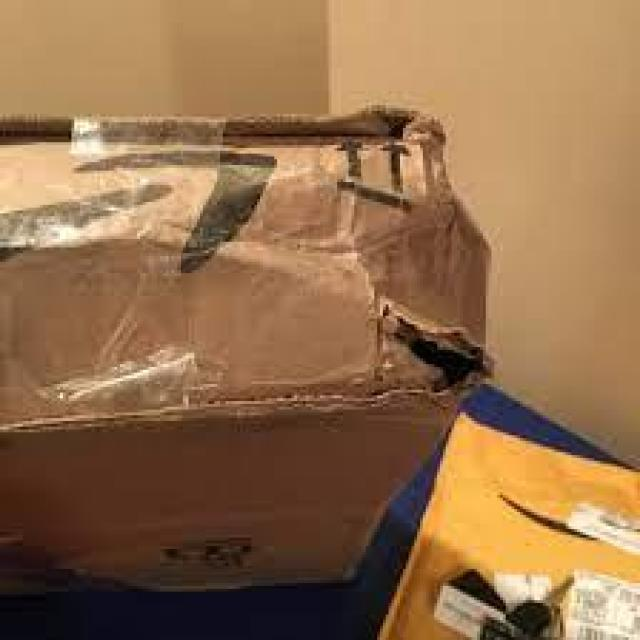damaged: (374, 304, 494, 421)
